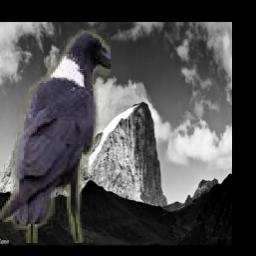Crow: (1, 30, 112, 244)
